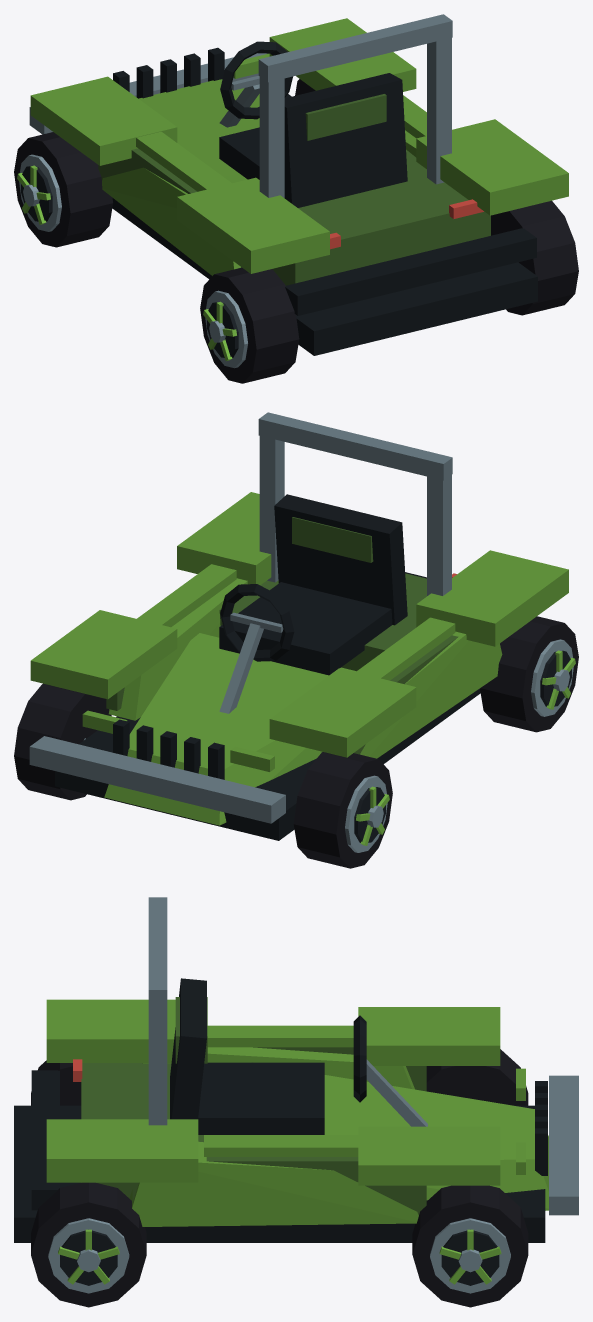
Rendered from kart.glb.
3 renders of one model, top to bottom at view 1: azimuth 30°, elevation 25°; view 2: azimuth 150°, elevation 25°; view 3: azimuth 270°, elevation 25°, orthographic. The views are drawn at different scales.
Parts seen in each view (by area): view 1: chassis, wheel-rear-left, wheel-front-left, wheel-rear-right; view 2: chassis, wheel-front-left, wheel-rear-left, wheel-front-right; view 3: chassis, wheel-front-right, wheel-rear-right, wheel-front-left, wheel-rear-left.
Part boxes in pixels (<box>): chassis: <box>29,14,568,355</box>; wheel-rear-left: <box>200,267,299,383</box>; wheel-front-left: <box>14,132,112,247</box>; wheel-rear-right: <box>491,200,578,315</box>; chassis: <box>29,412,568,840</box>; wheel-front-left: <box>293,752,392,868</box>; wheel-rear-left: <box>480,616,578,732</box>; wheel-front-right: <box>14,683,111,800</box>; chassis: <box>14,897,578,1242</box>; wheel-front-right: <box>412,1185,528,1307</box>; wheel-rear-right: <box>31,1182,146,1307</box>; wheel-front-left: <box>426,1049,528,1105</box>; wheel-rear-left: <box>31,1060,81,1105</box>.
Size of the model in its own units: 2.21 by 1.67 by 3.02.
